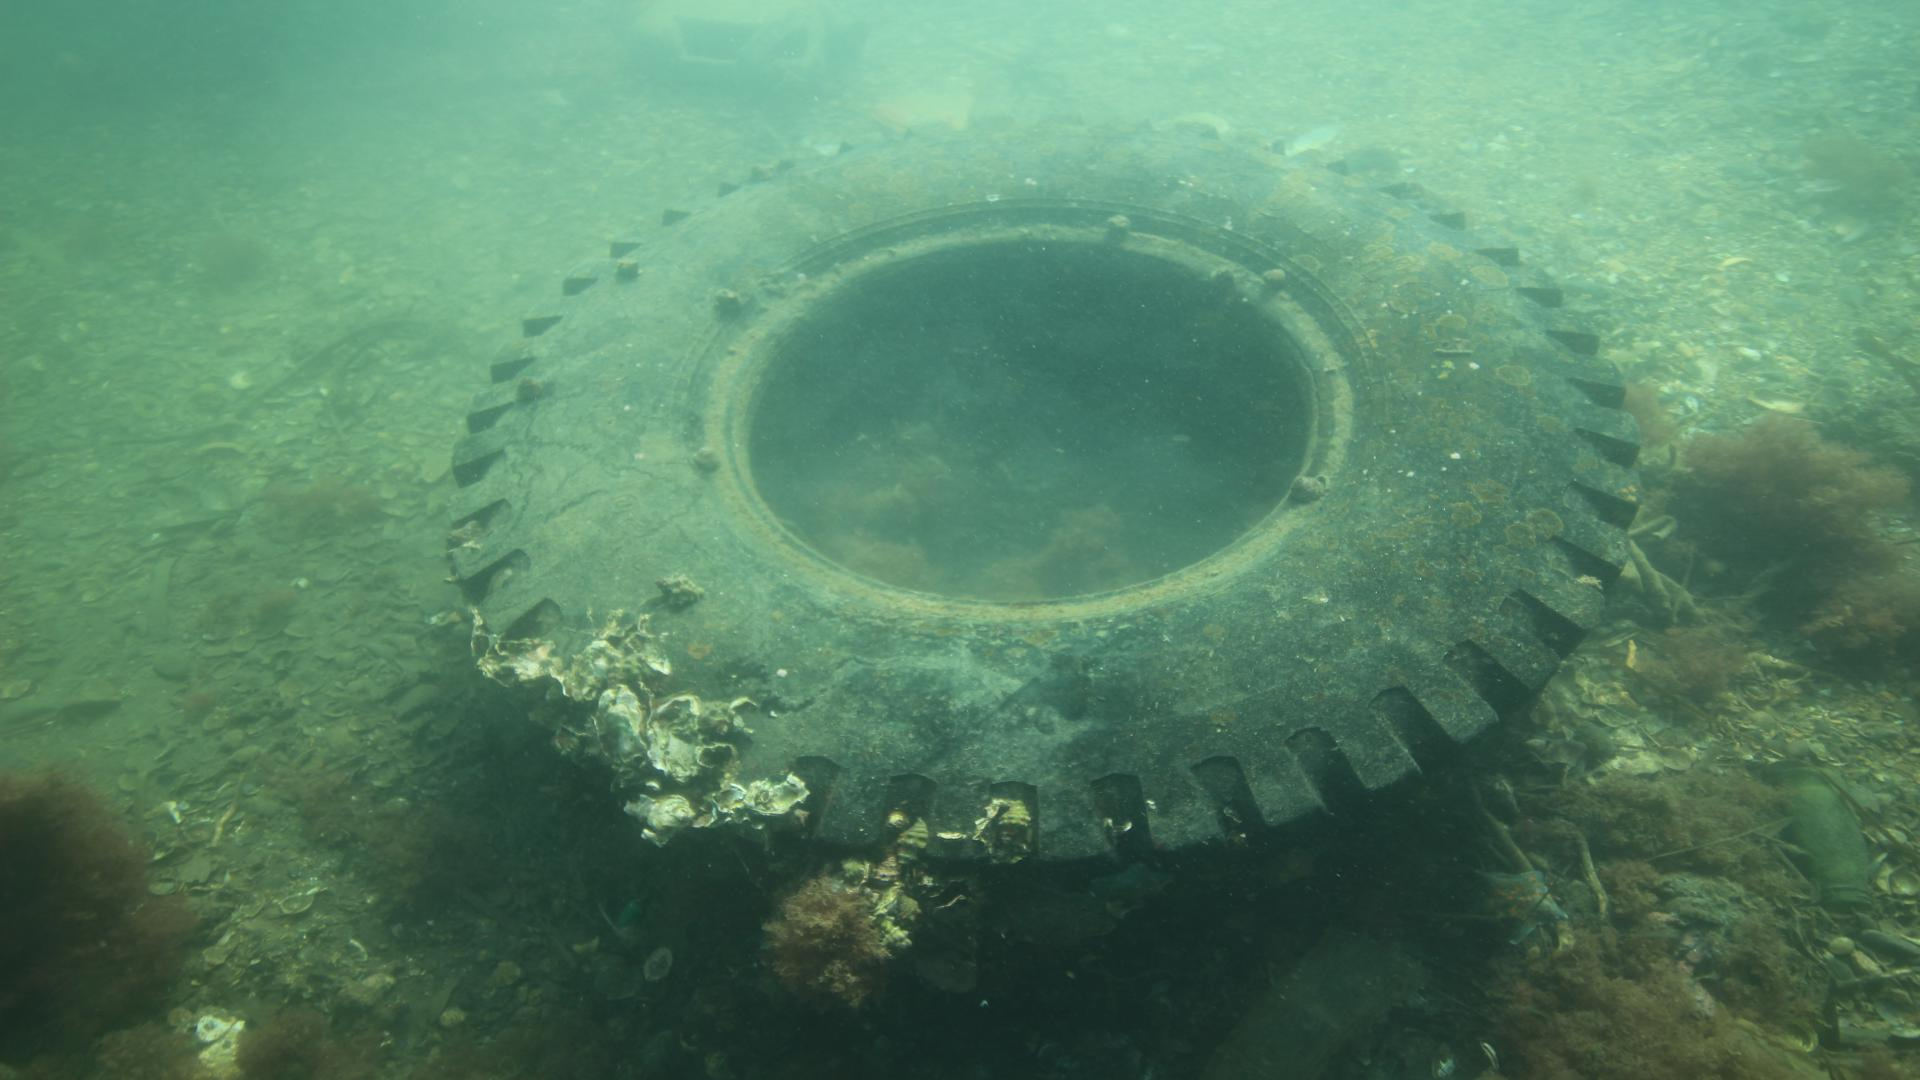tire: (448, 109, 1644, 1015)
